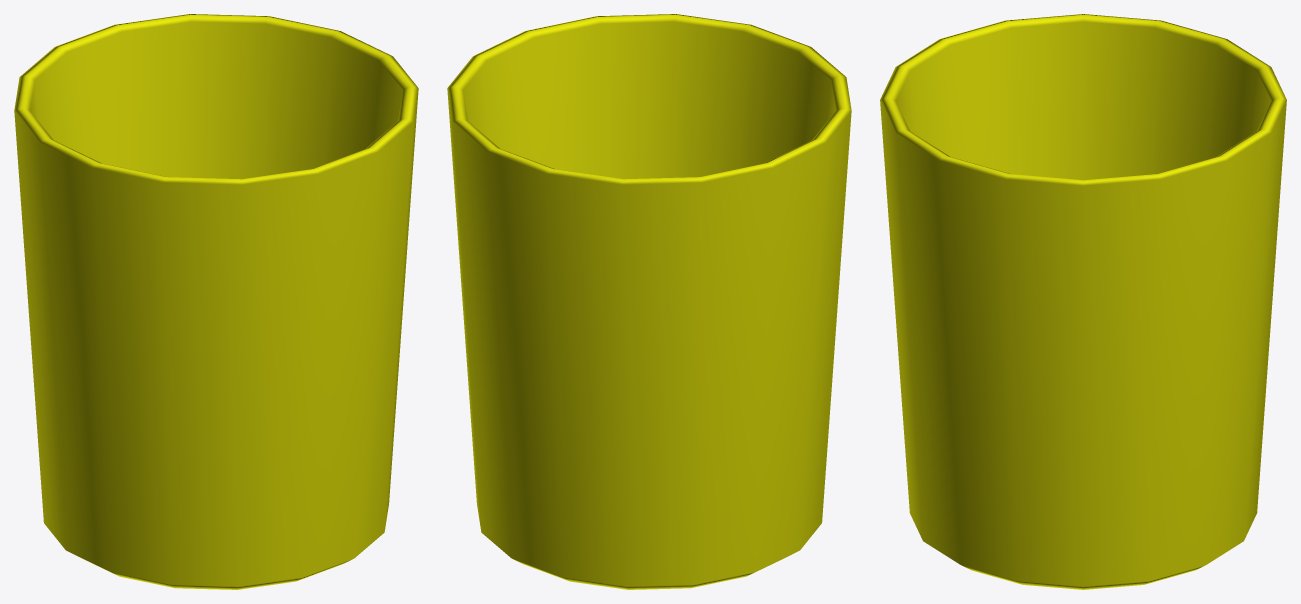
The model's file is Cup_01.fbx.
The picture shows the model from 3 angles, left to right: view 1: azimuth 30°, elevation 25°; view 2: azimuth 150°, elevation 25°; view 3: azimuth 270°, elevation 25°; orthographic projection.
Parts seen in each view (by area): view 1: Glass; view 2: Glass; view 3: Glass.
Boxes of the visible parts, bbox=[...] form: Glass: bbox=[14, 14, 418, 589]; Glass: bbox=[447, 14, 851, 589]; Glass: bbox=[880, 14, 1286, 589].
Bounding box in the file's own units: 189 × 218 × 189.
